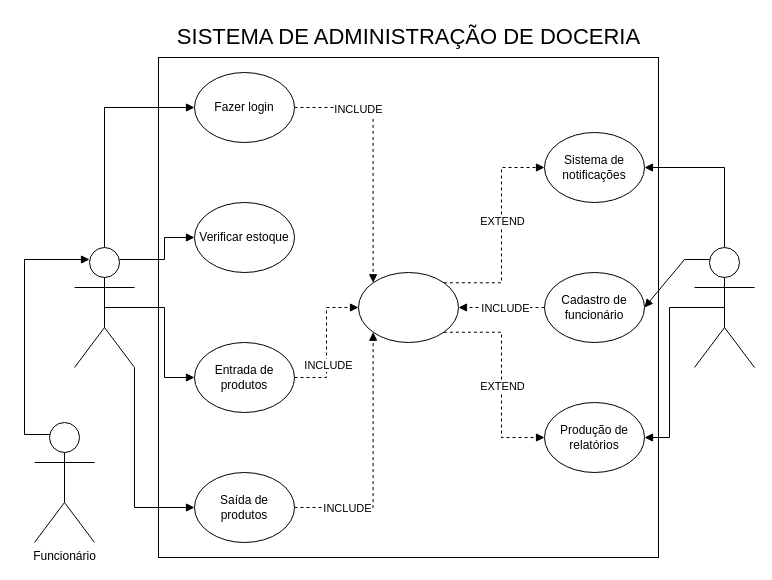
Image size: 772x580. Some labels were removed from this diagram. The shapes that lost their labels are listed below. From the top down, each one's centre as x and y in pixels, then its label:
At point 104,307: "Usuário".
At point 408,307: "Registro no Sistema".
At point 724,307: "Sistema".
